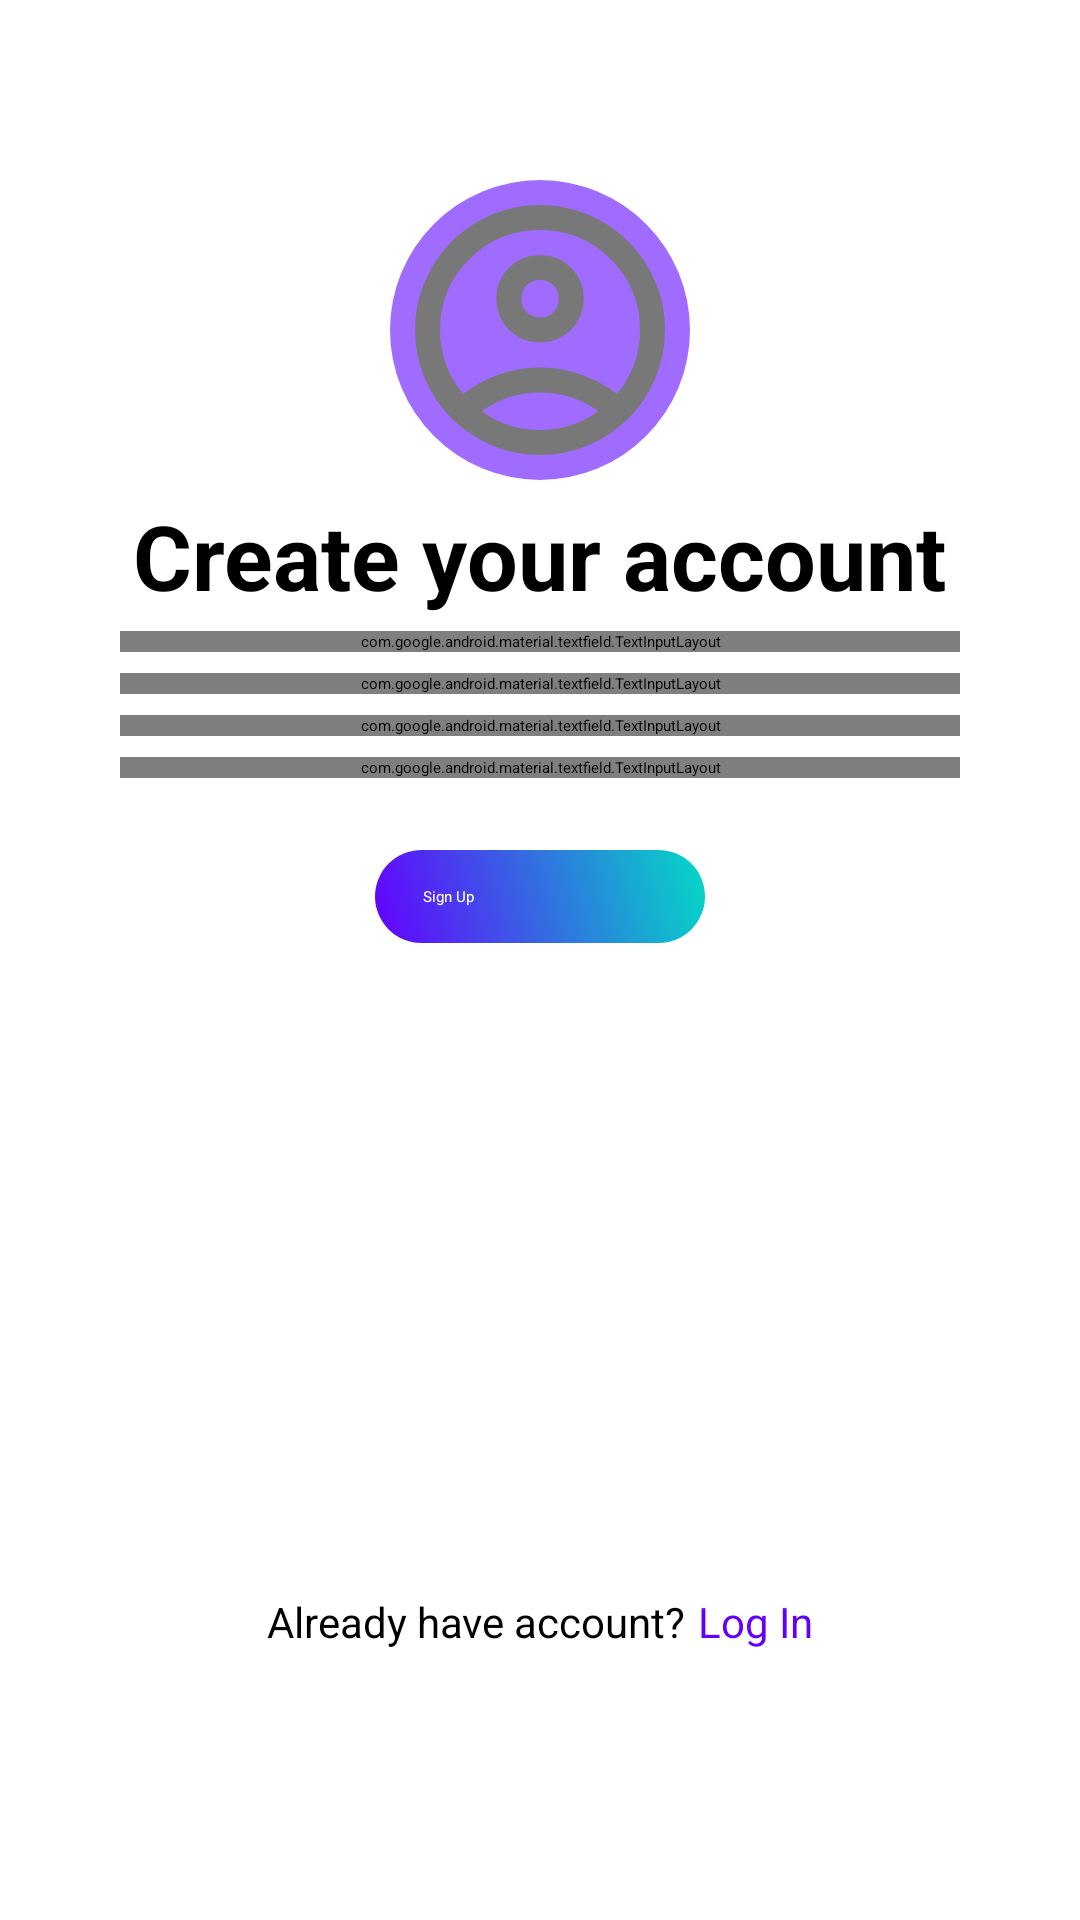

Locate icon controls on the screen. Image size 1080 x 1920, boxes as (x1, y1, x2, y2).
account circle: (390, 180, 690, 480)
